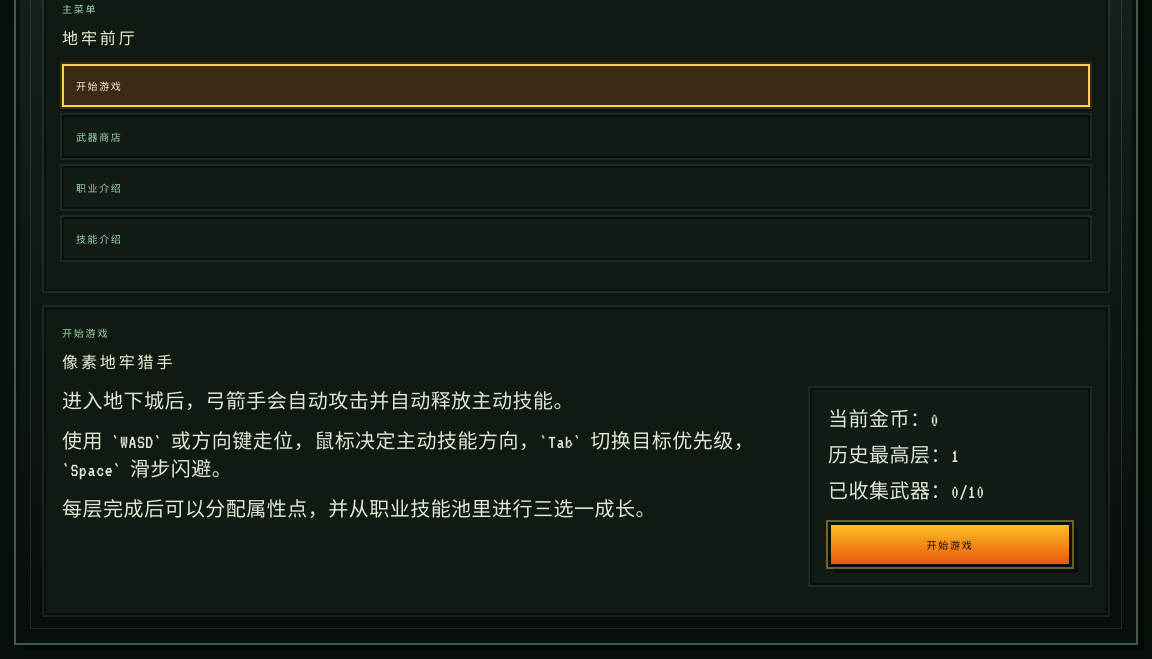
Scenario: GameOverlay › shows the idle main menu and switches between menu tabs
Expected: the heading "地牢前厅" is shown, [62,24,138,48]
Expected: the button "开始游戏" below "地牢前厅" is shown, [62,64,1090,107]
Click the button "职业介绍" at (99, 187), box [62,166,1090,209]
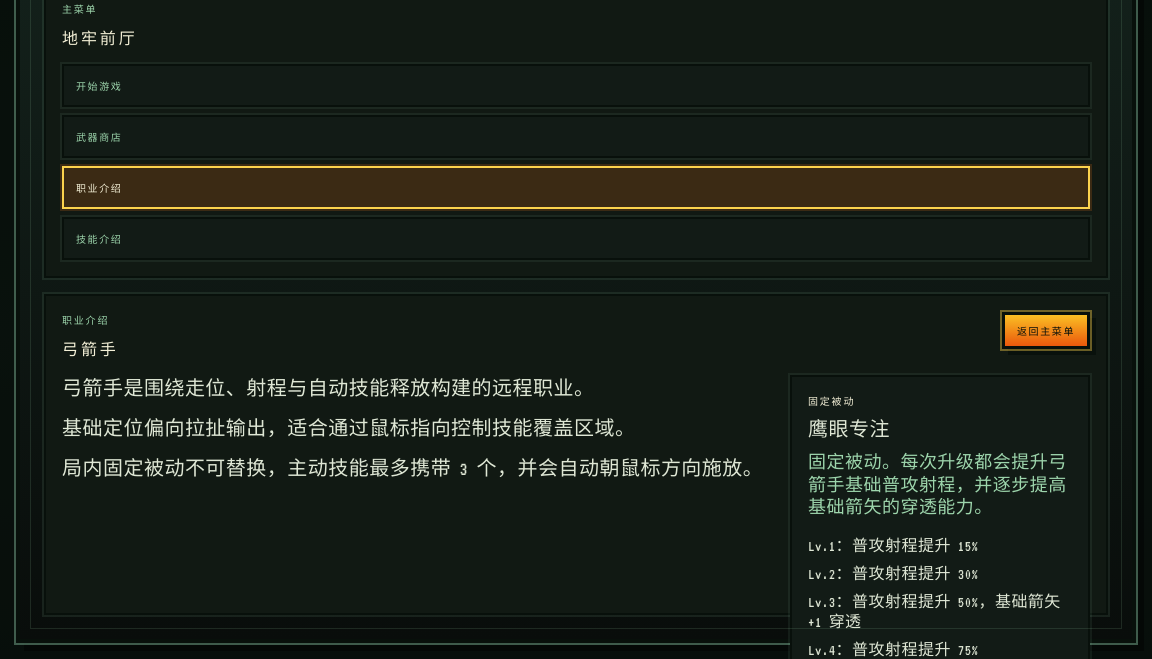
Expected: the heading "弓箭手" is shown, [62,335,119,359]
Expected: the text "鹰眼专注" is shown, [808,420,890,440]
Click the button "技能介绍" at (99, 238), box [62,217,1090,260]
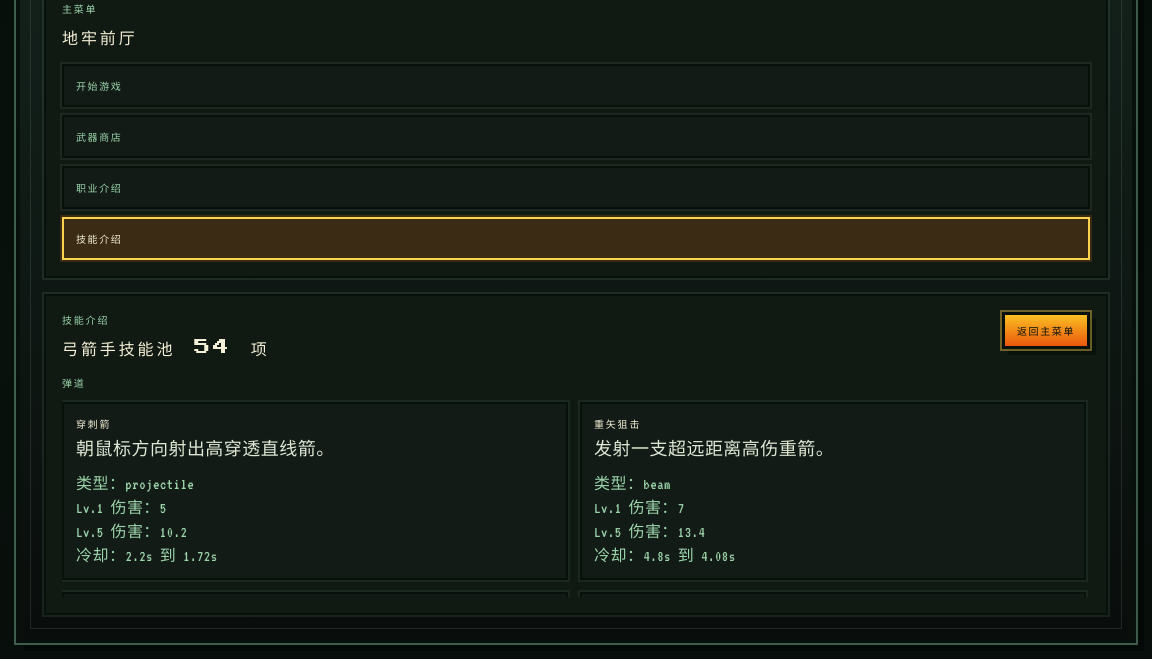
Expected: the button "返回主菜单" is shown
Expected: the heading "弓箭手技能池 54 项" is shown, [62,335,270,359]
Expected: the text "穿刺箭" is shown, [76,418,111,428]
Click the button "返回主菜单" at (1046, 330), box [1002,312,1090,349]
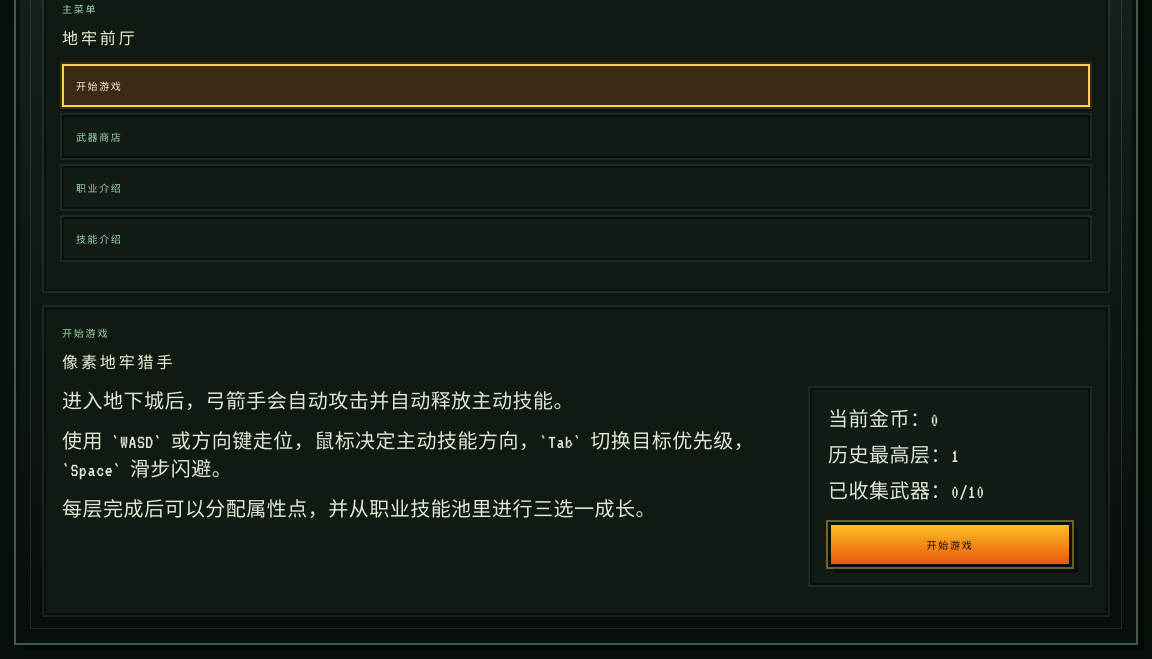
Expected: the heading "像素地牢猎手" is shown, [62,348,175,372]
Click the button "武器商店" at (99, 136), box [62,115,1090,158]
(page scrolled)
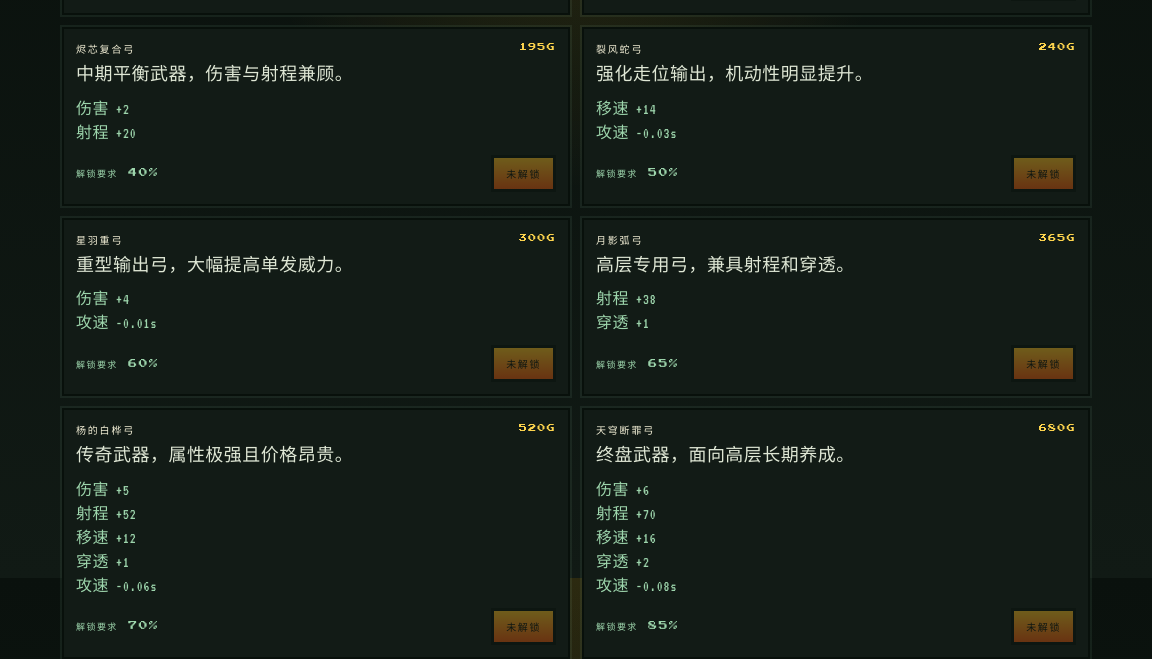
Expected: the text "杨的白桦弓" is shown, [76,424,135,434]
